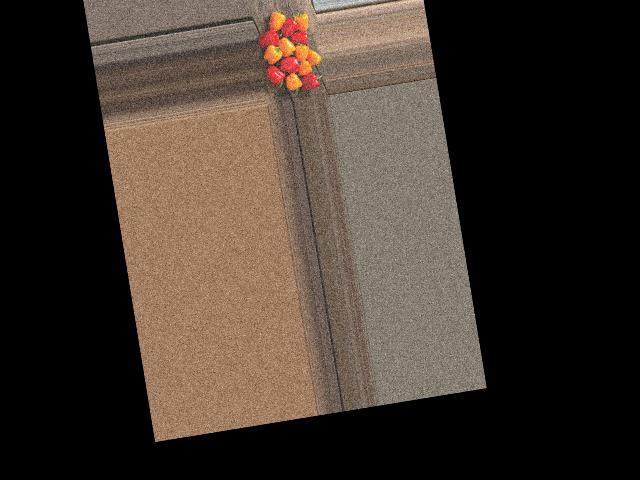bell_pepper: (263, 9, 288, 37)
